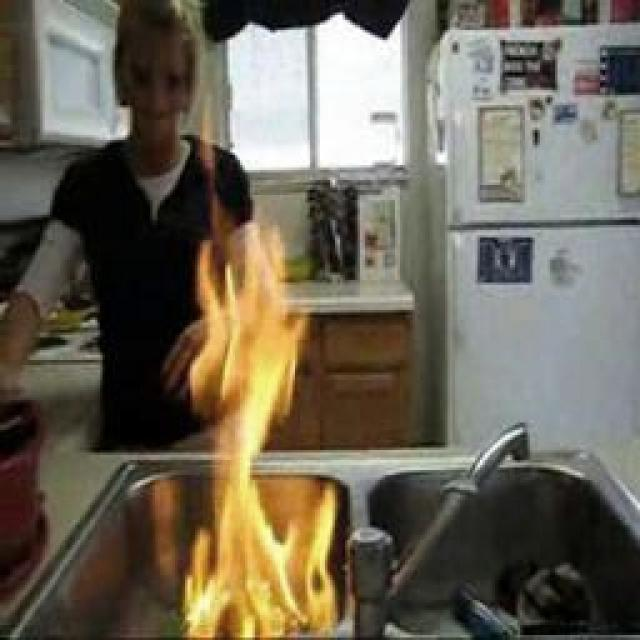Fire: (185, 225, 338, 640)
